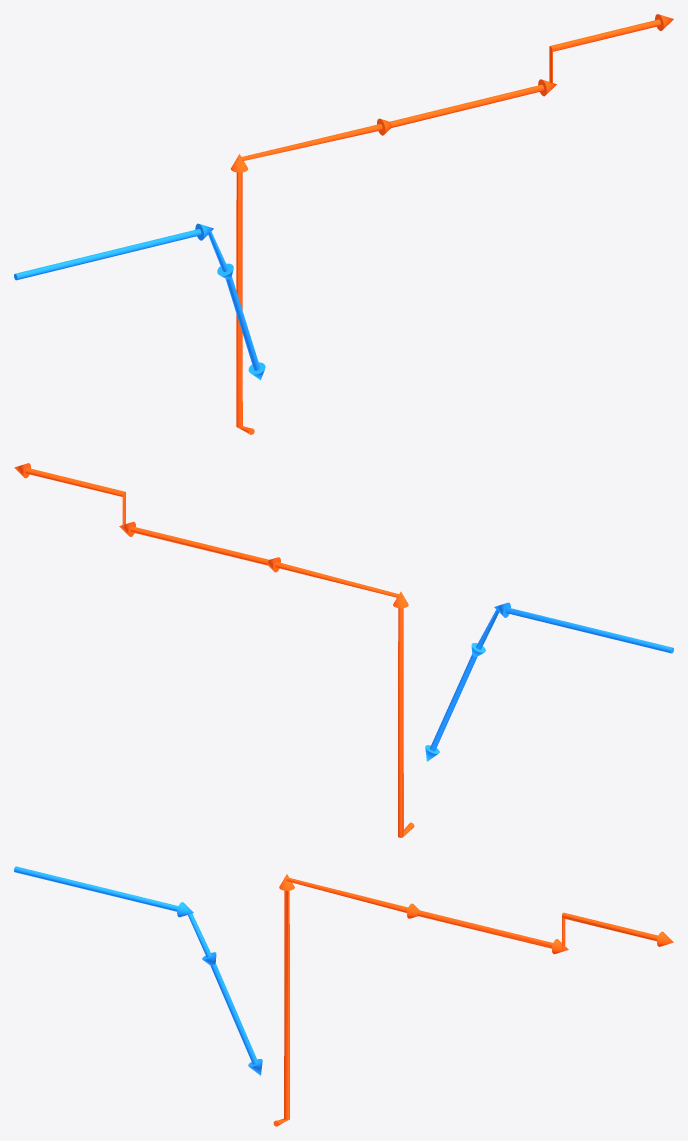
File: sewage_lift_station_flow.glb
The picture shows the model from 3 angles, top to bottom: view 1: azimuth 30°, elevation 25°; view 2: azimuth 150°, elevation 25°; view 3: azimuth 330°, elevation 25°; orthographic projection. The views are drawn at different scales.
Parts seen in each view (by area): view 1: discharge, inflow; view 2: discharge, inflow; view 3: discharge, inflow.
Boxes of the visible parts, x1,y1,x2,y2 form: discharge: (231,14,673,434); inflow: (14,223,265,380); discharge: (14,463,414,837); inflow: (425,602,673,761); discharge: (273,874,673,1126); inflow: (14,866,262,1075).
Size of the model in its own units: 5.95 by 2.55 by 0.71.
